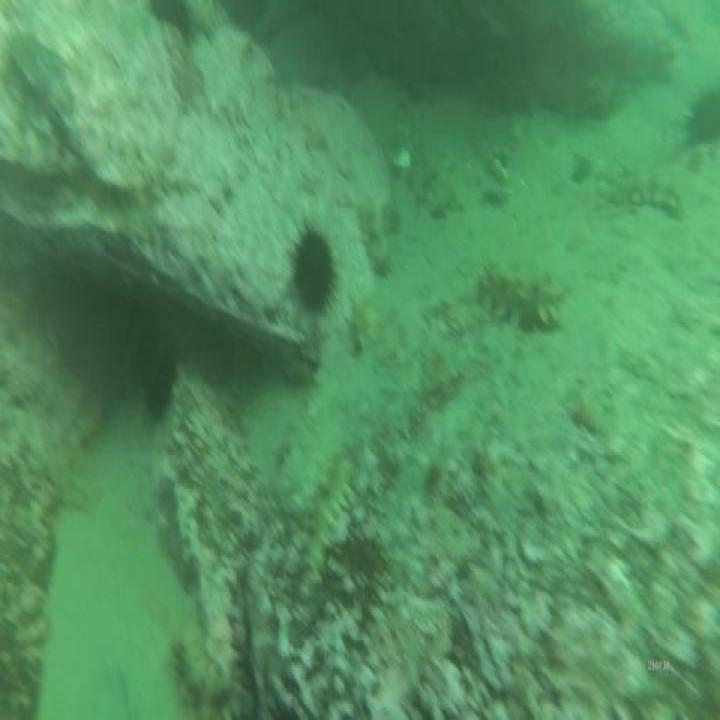echinus: (291, 222, 336, 320), (138, 341, 180, 425)
holothurian: (470, 258, 570, 340), (299, 443, 357, 574), (168, 626, 241, 720), (615, 169, 683, 229)
